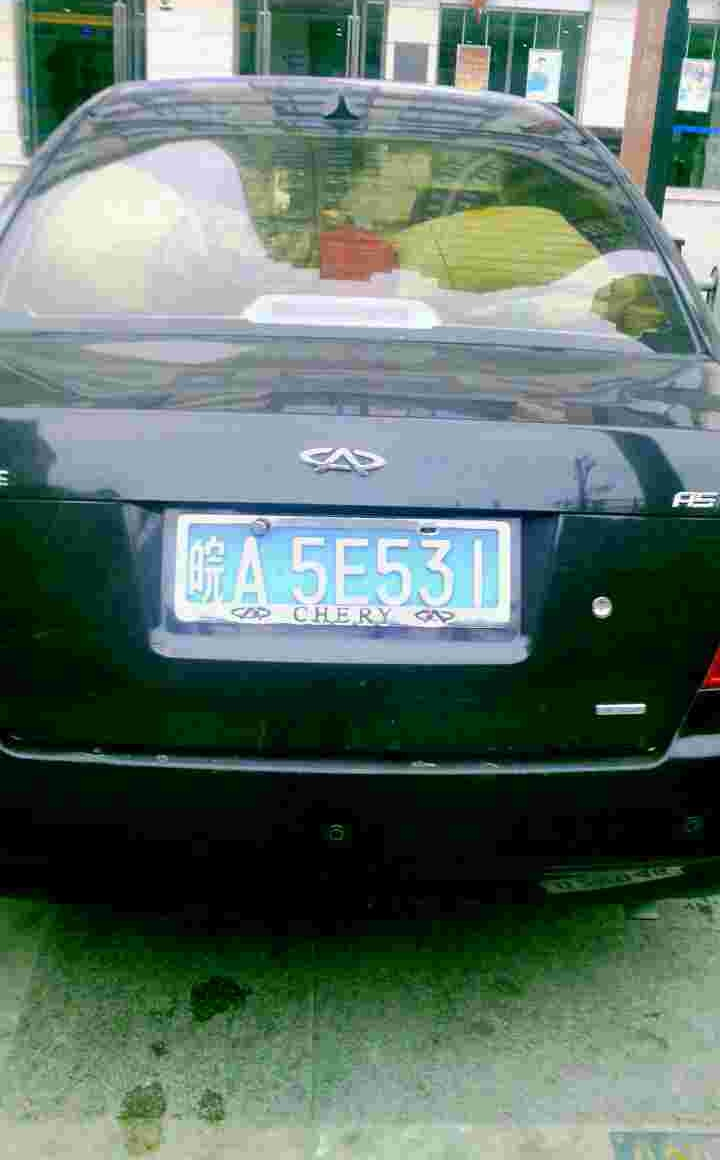license_plate: (179, 521, 509, 612)
